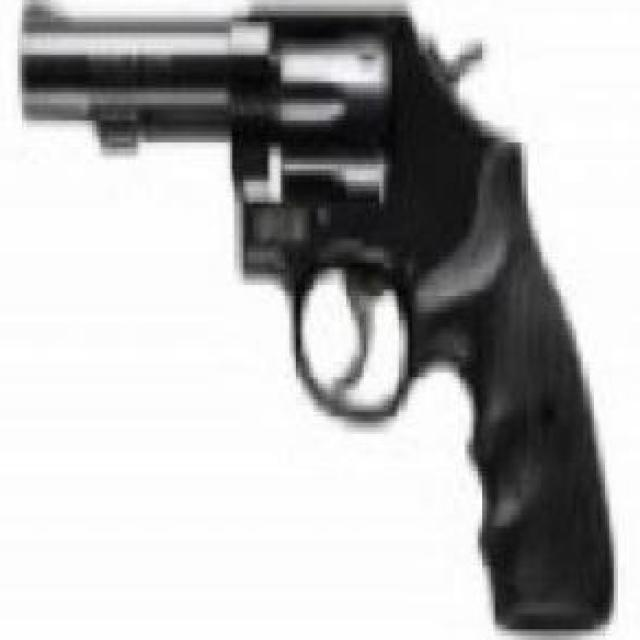pistol: (13, 0, 614, 638)
